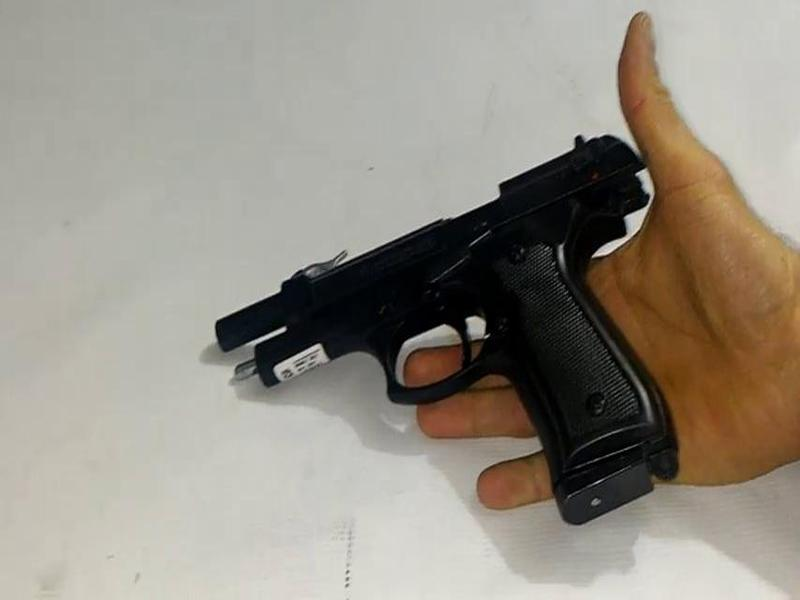Pistola: (194, 119, 695, 533)
